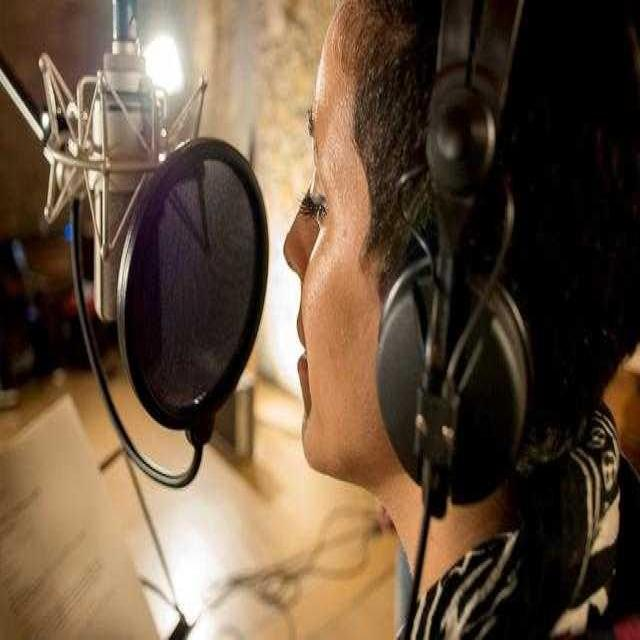microphone: (63, 26, 212, 447)
